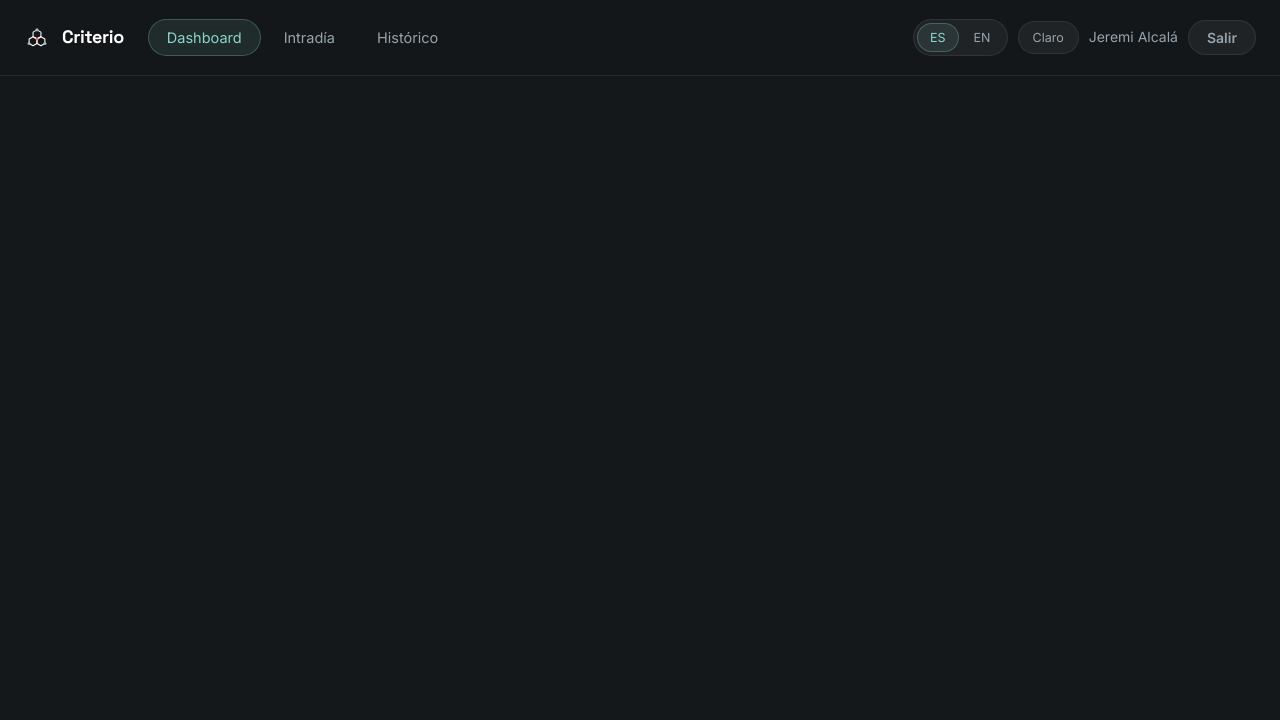
Scenario: NavBar (ancha) › alterna el tema y lo aplica al documento
The width and height of the screenshot is (1280, 720).
Click the button "Claro": point(1048, 38) [1018,21,1079,54]
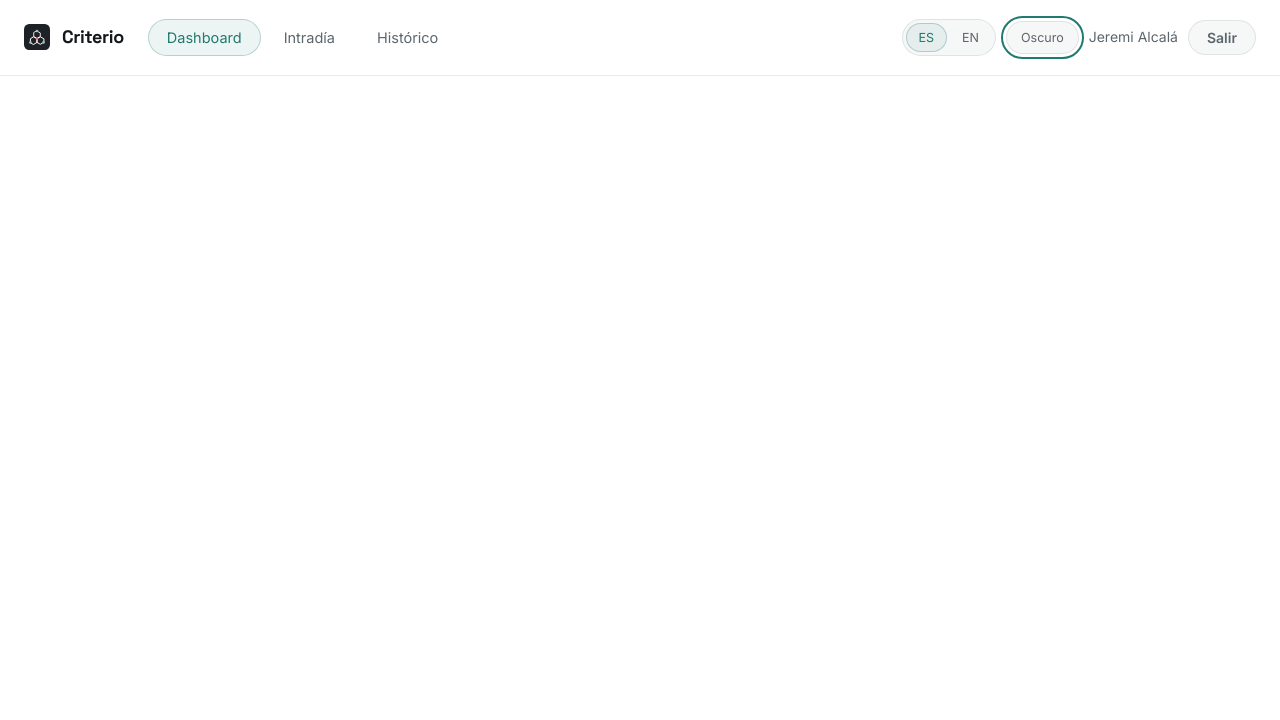
Expected: the button "Oscuro" is shown, [1006,21,1079,54]
